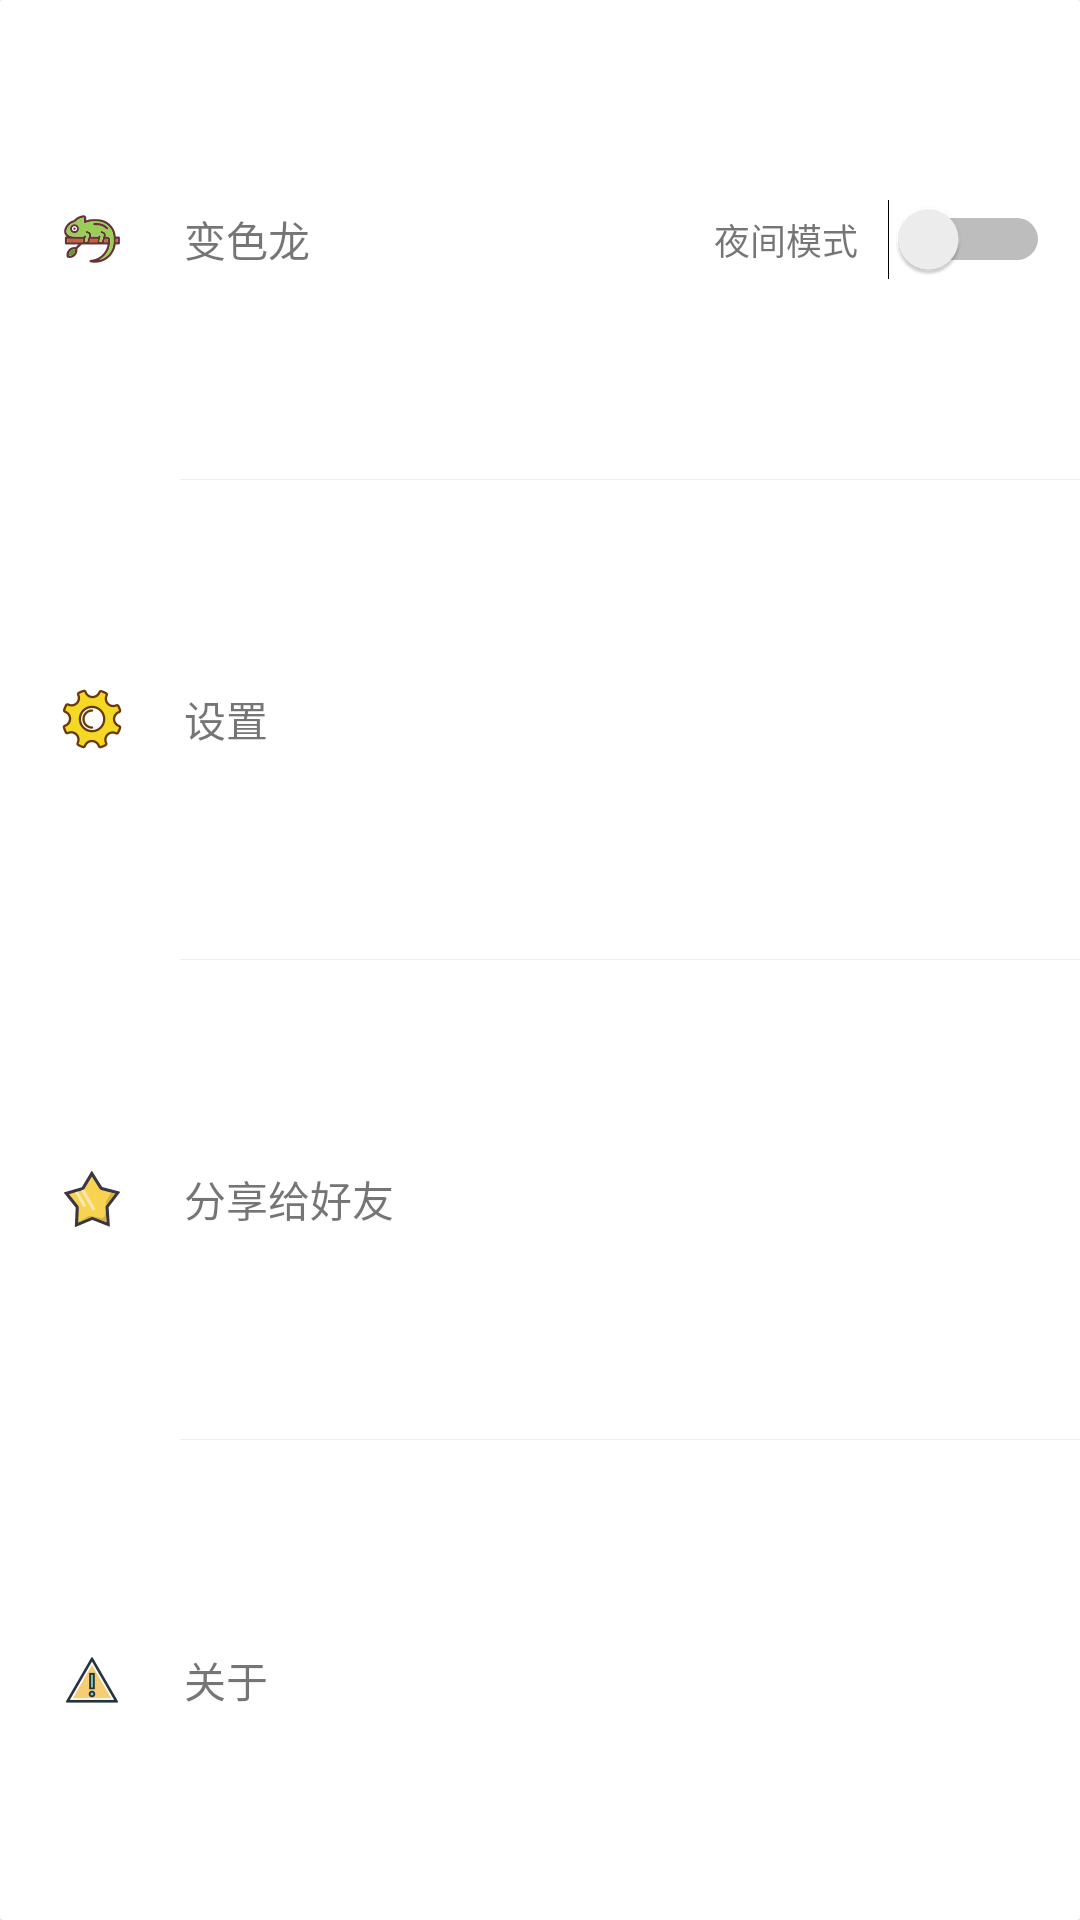

Where to tap for icons on this 1080px×1920px app screen, as [x,y]:
me bianselong: [92,239]
me lun: [92,719]
me star: [92,1199]
